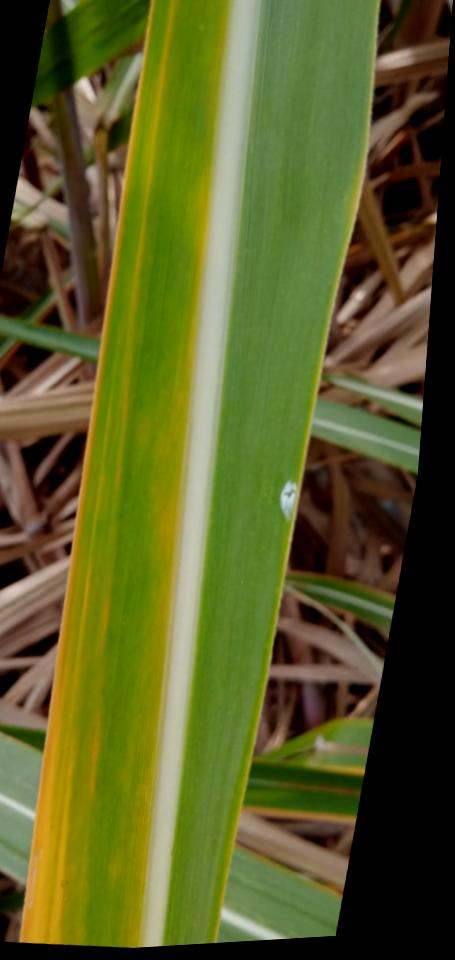Yellow: (18, 0, 154, 943), (126, 159, 211, 947), (113, 0, 176, 490), (46, 736, 77, 944), (70, 570, 90, 688), (88, 717, 100, 797), (98, 594, 110, 659)
